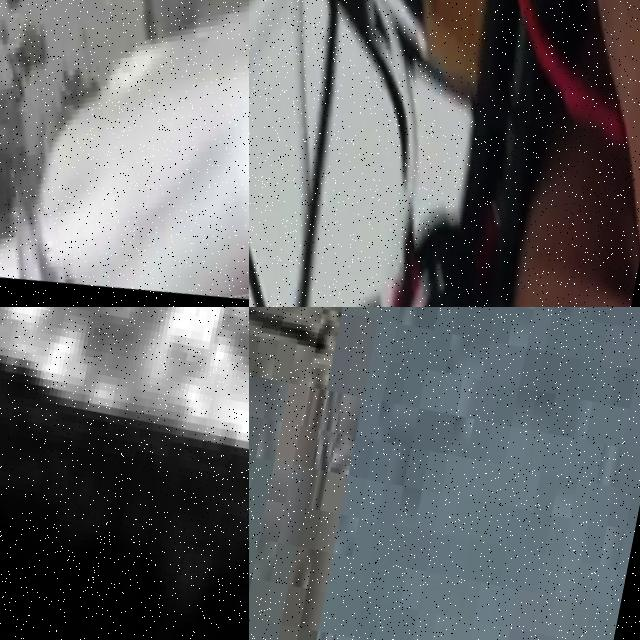drone: (249, 0, 640, 307), (0, 0, 249, 307)
